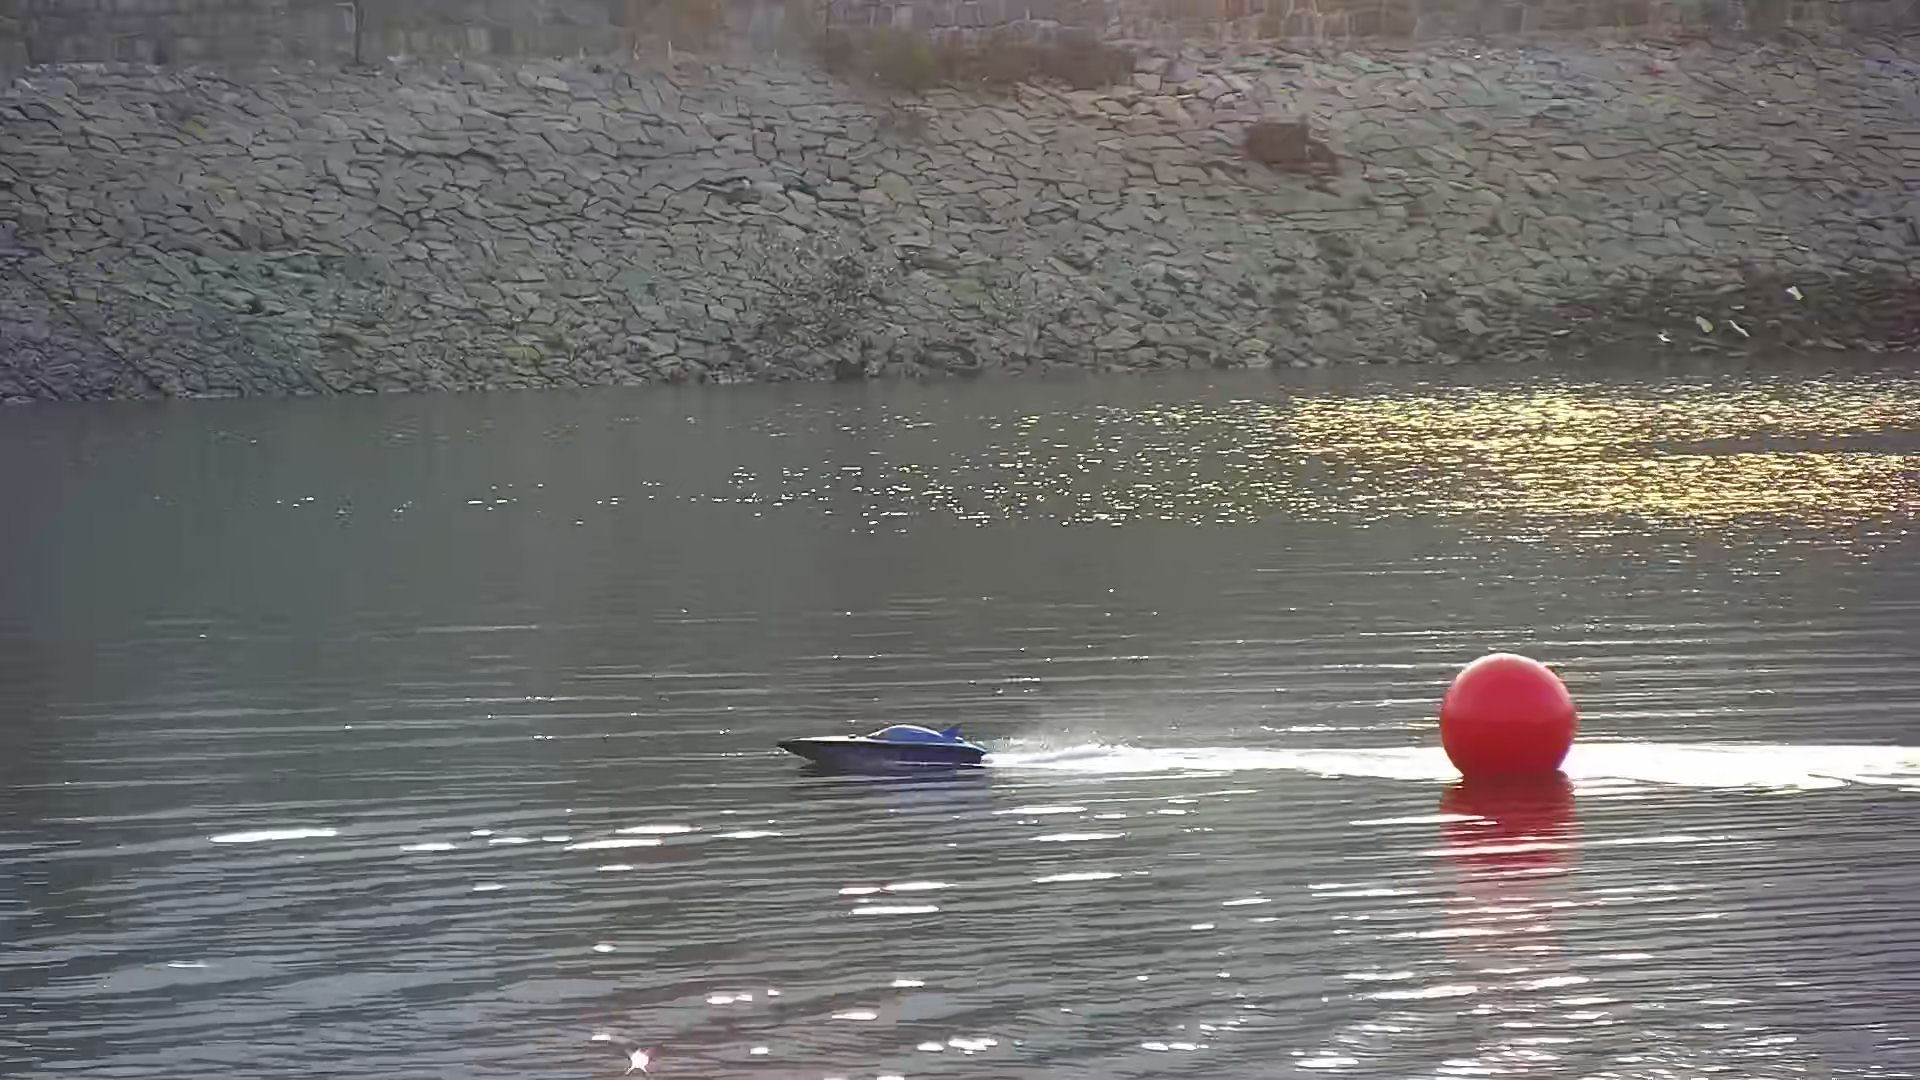ball: (1443, 653, 1578, 789)
boat: (778, 716, 982, 778)
